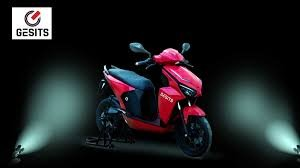motor: (93, 47, 215, 157)
